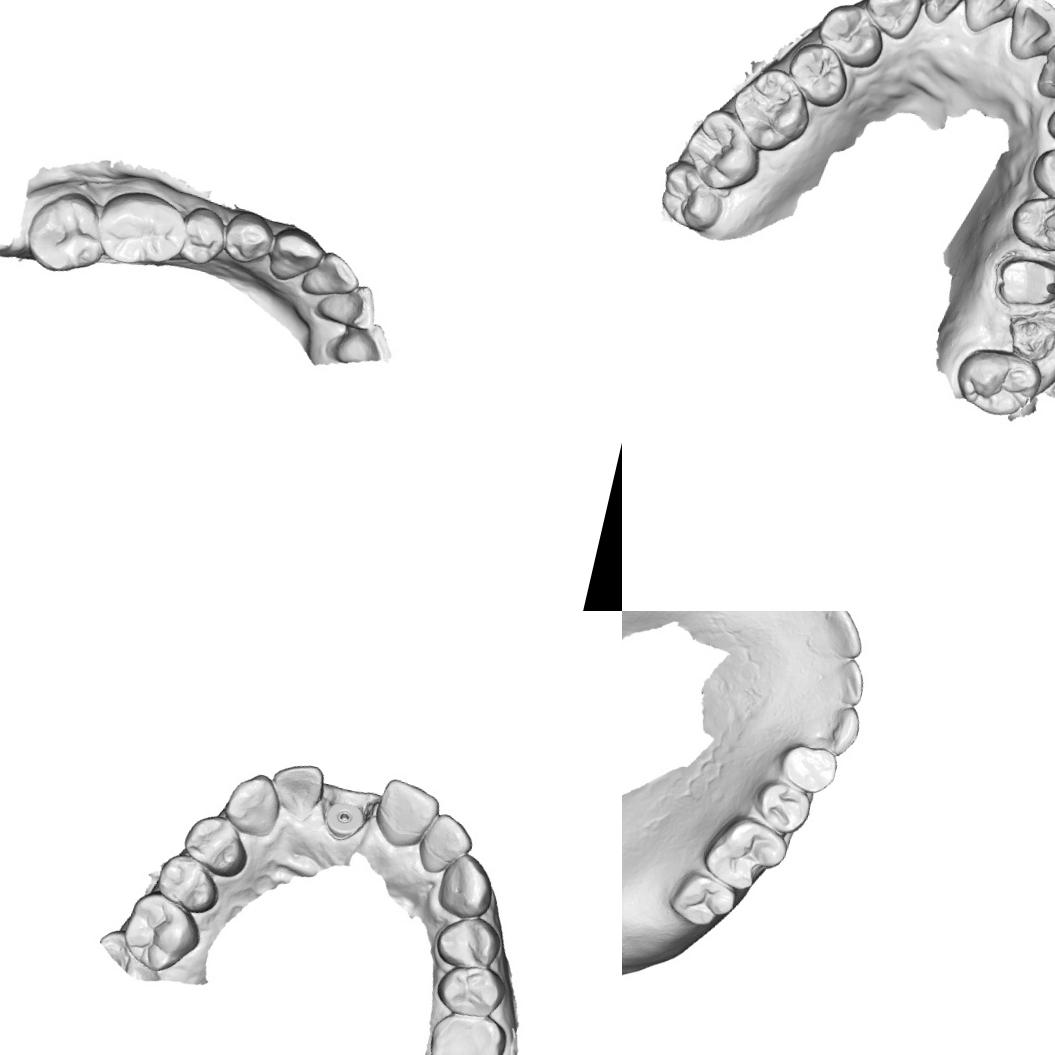canine: (432, 847, 502, 925), (219, 766, 284, 836), (264, 226, 328, 288), (862, 0, 925, 44), (818, 701, 865, 756)
crown: (990, 249, 1055, 316)
implant: (319, 797, 368, 845)
incisor: (368, 775, 444, 855), (412, 808, 480, 882), (264, 756, 329, 824), (313, 274, 382, 334), (330, 314, 398, 374), (298, 246, 362, 306), (1004, 0, 1055, 64), (817, 611, 873, 662), (833, 659, 873, 712), (959, 0, 1027, 31), (907, 0, 970, 30), (1031, 34, 1055, 108)
molar: (19, 183, 115, 281), (116, 883, 212, 981), (92, 182, 192, 276), (696, 808, 793, 899), (950, 342, 1044, 423), (679, 108, 766, 195), (732, 68, 808, 151), (654, 162, 728, 236), (666, 868, 740, 934), (422, 1003, 512, 1055)
premolar: (178, 808, 256, 882), (780, 36, 854, 111), (151, 848, 227, 917), (430, 908, 507, 976), (432, 957, 510, 1023), (816, 1, 889, 71), (774, 740, 844, 800), (750, 778, 814, 839), (220, 208, 280, 269), (176, 202, 230, 268), (1007, 187, 1055, 256), (1026, 141, 1055, 210)
